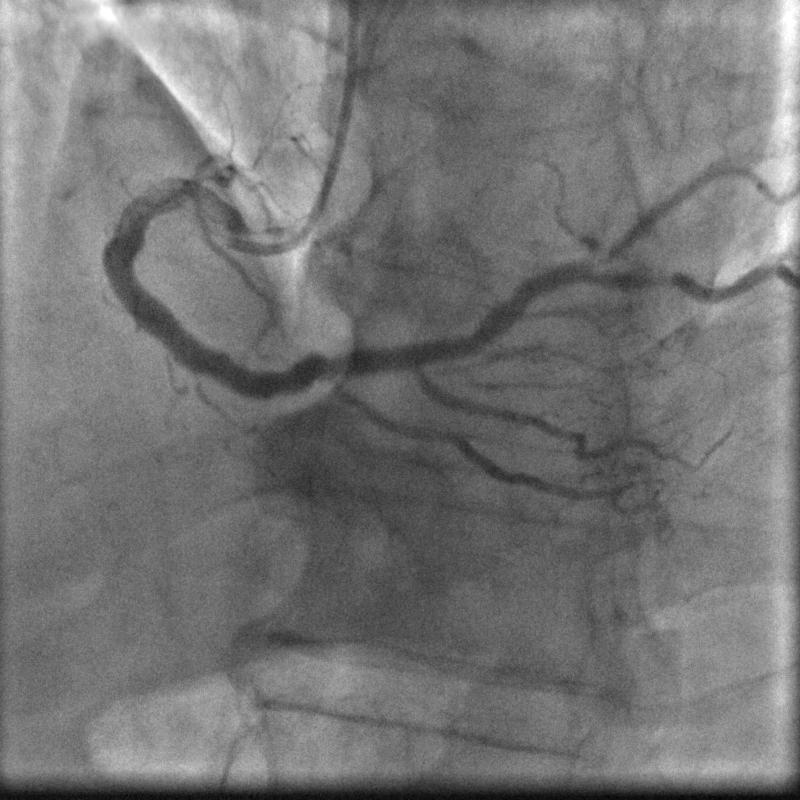Stenosis: (622, 261, 683, 289)
